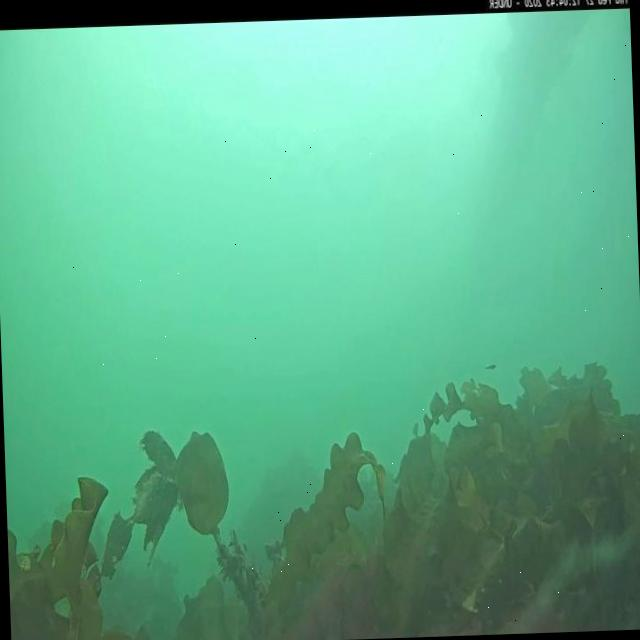fish: (483, 362, 497, 372)
